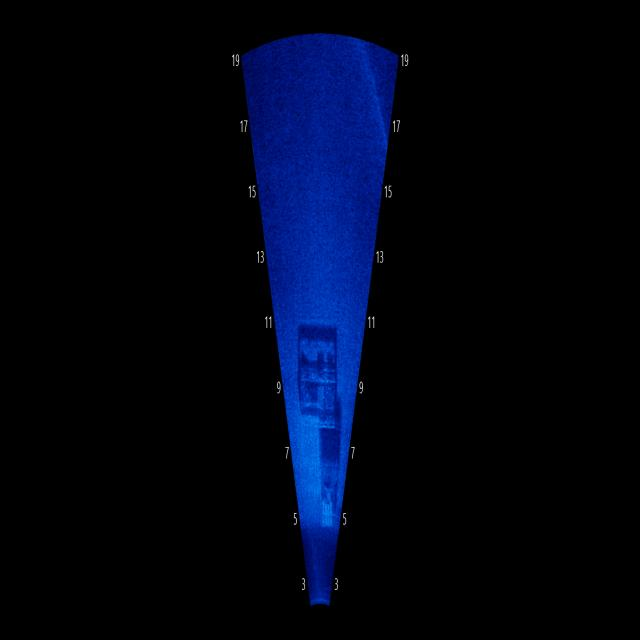square: (294, 315, 342, 434)
